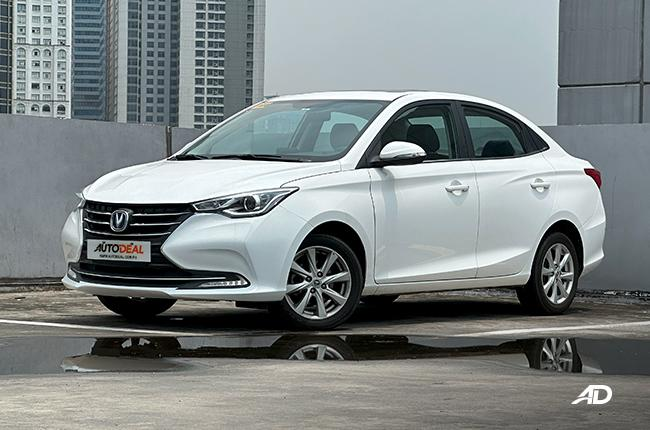car: (58, 82, 618, 331)
